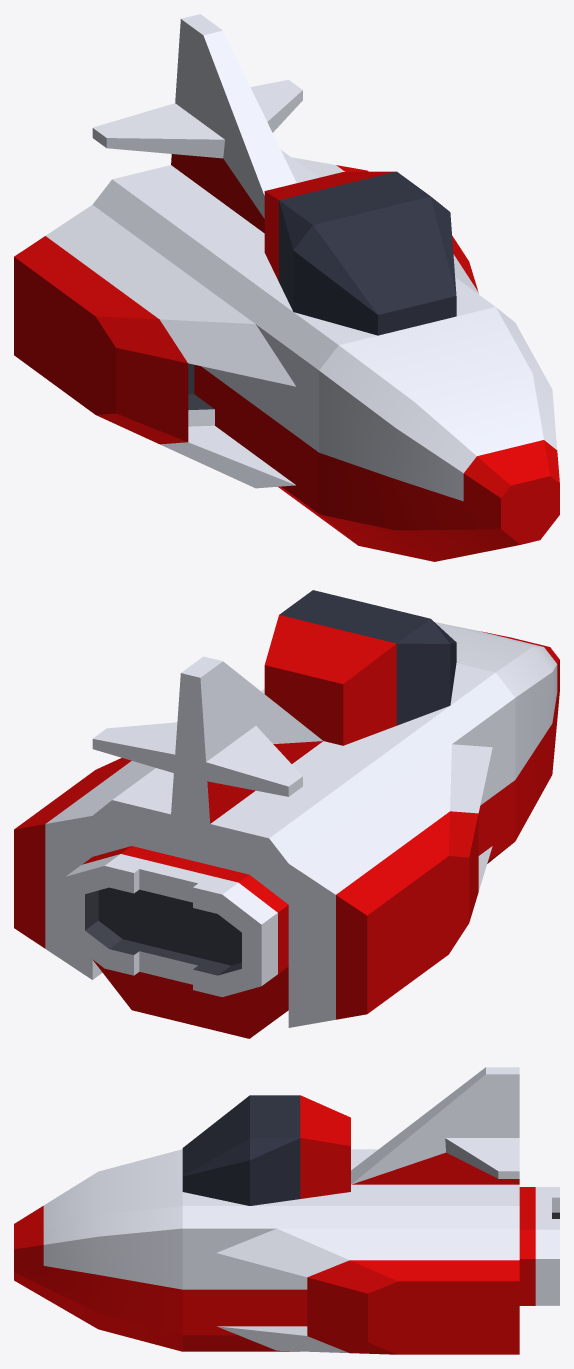
File: Ship1.fbx
The picture shows the model from 3 angles, top to bottom: view 1: azimuth 30°, elevation 25°; view 2: azimuth 150°, elevation 25°; view 3: azimuth 270°, elevation 25°; orthographic projection. The views are drawn at different scales.
Visible parts, largest first — view 1: mergedBlocks; view 2: mergedBlocks; view 3: mergedBlocks.
Part boxes in pixels (x1,y1,x2,y2): mergedBlocks: (14, 14, 559, 561); mergedBlocks: (14, 590, 559, 1038); mergedBlocks: (14, 1067, 559, 1354).
Size of the model in its own units: 0.18 by 0.17 by 0.324.
